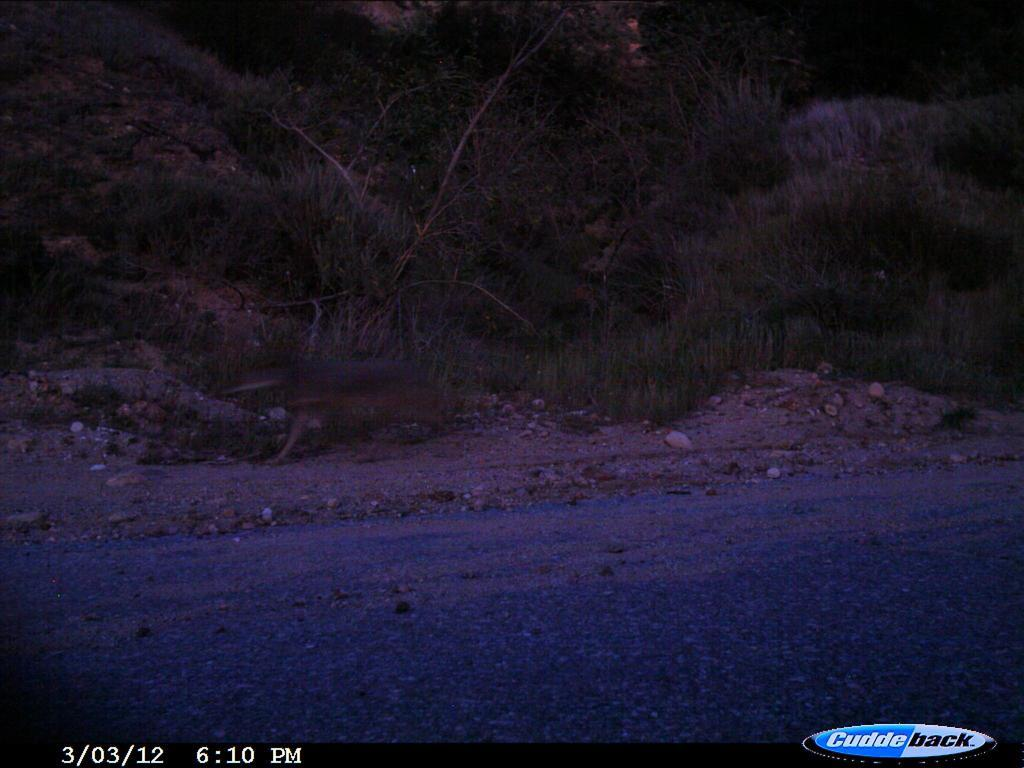coyote: (236, 345, 470, 472)
